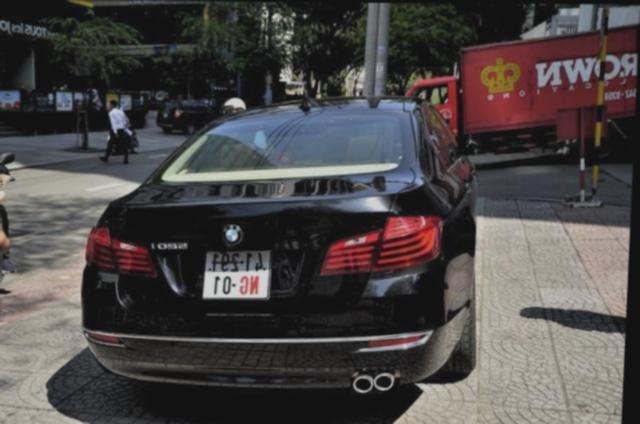License_Plate: (199, 246, 275, 305)
